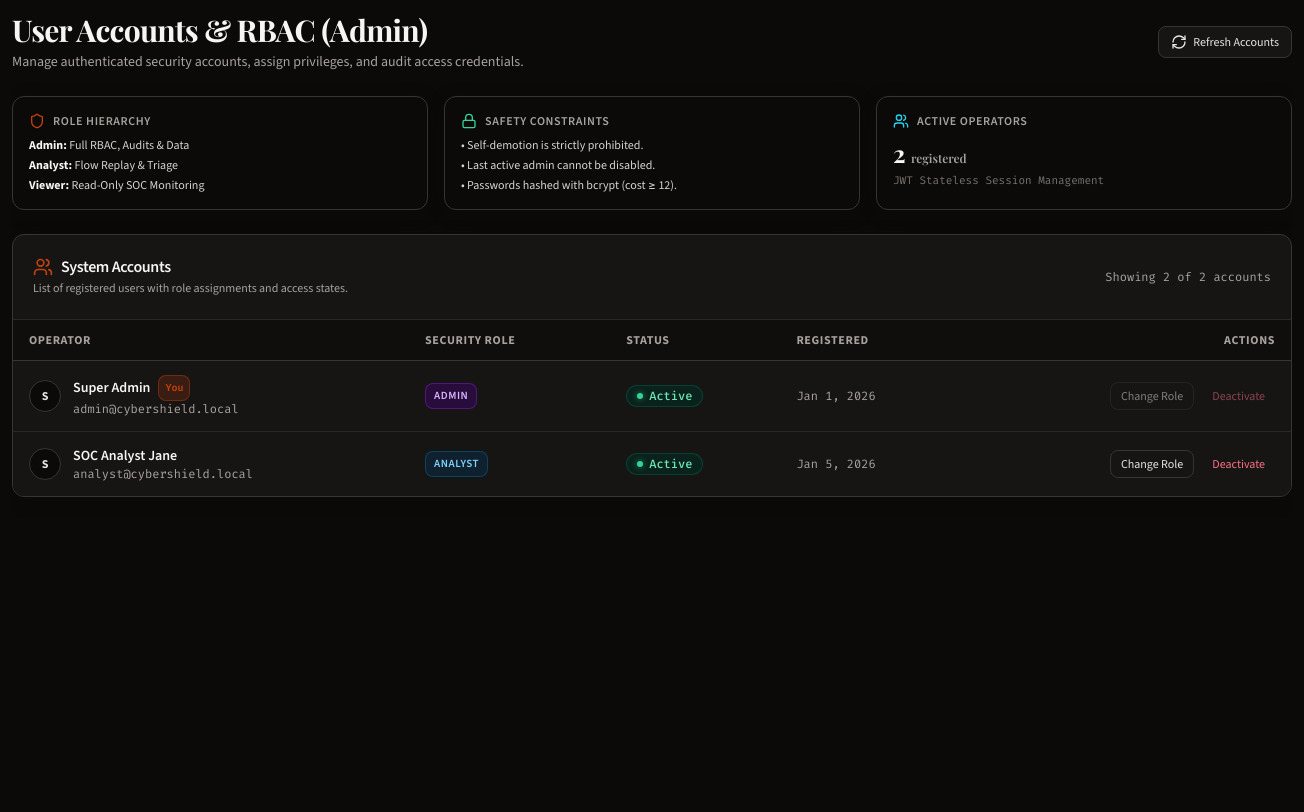
Test: Admin Console Features (Phase 10) › UsersPage Component › triggers refresh and displays confirmation toast when Refresh Accounts is clicked
Expected: the text "Super Admin" is shown, [73,378,150,398]
Step 1. Click the button "Refresh Accounts" → point(1225, 42), box [1158,26,1292,58]
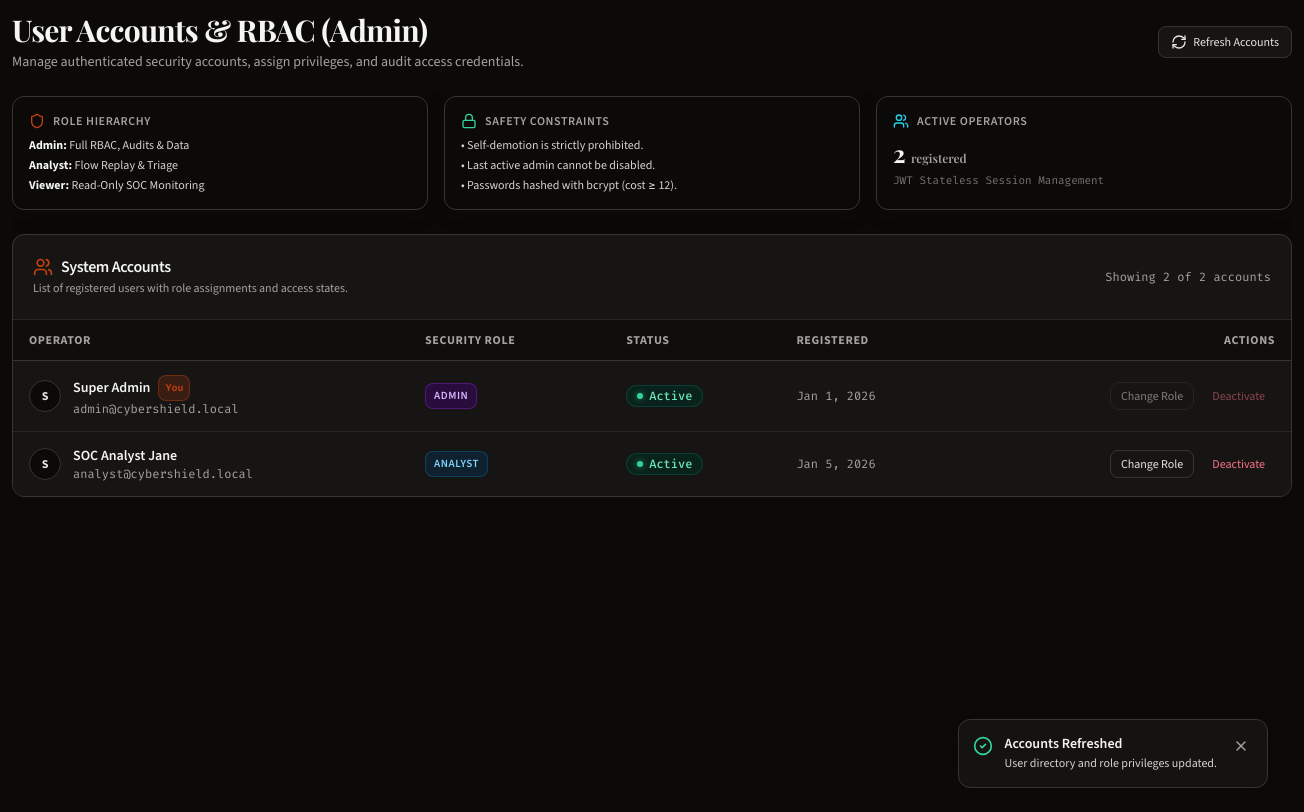
Expected: the text "Accounts Refreshed" is shown, [1005,734,1122,752]
